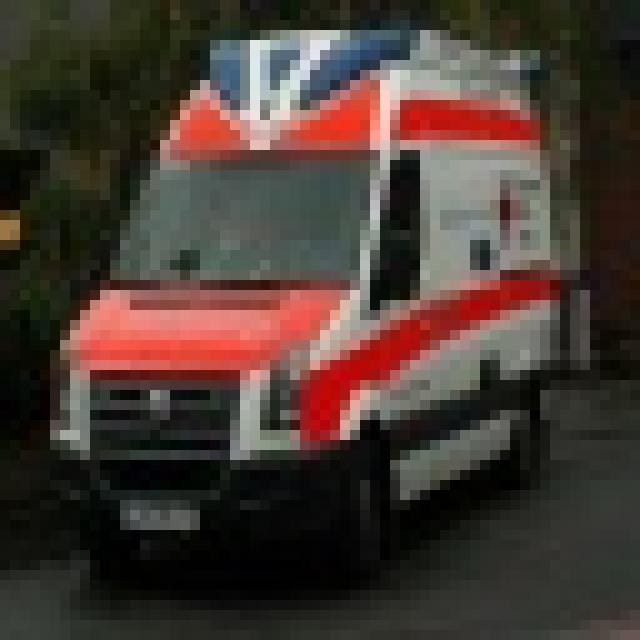Ambulance: (40, 20, 590, 580)
